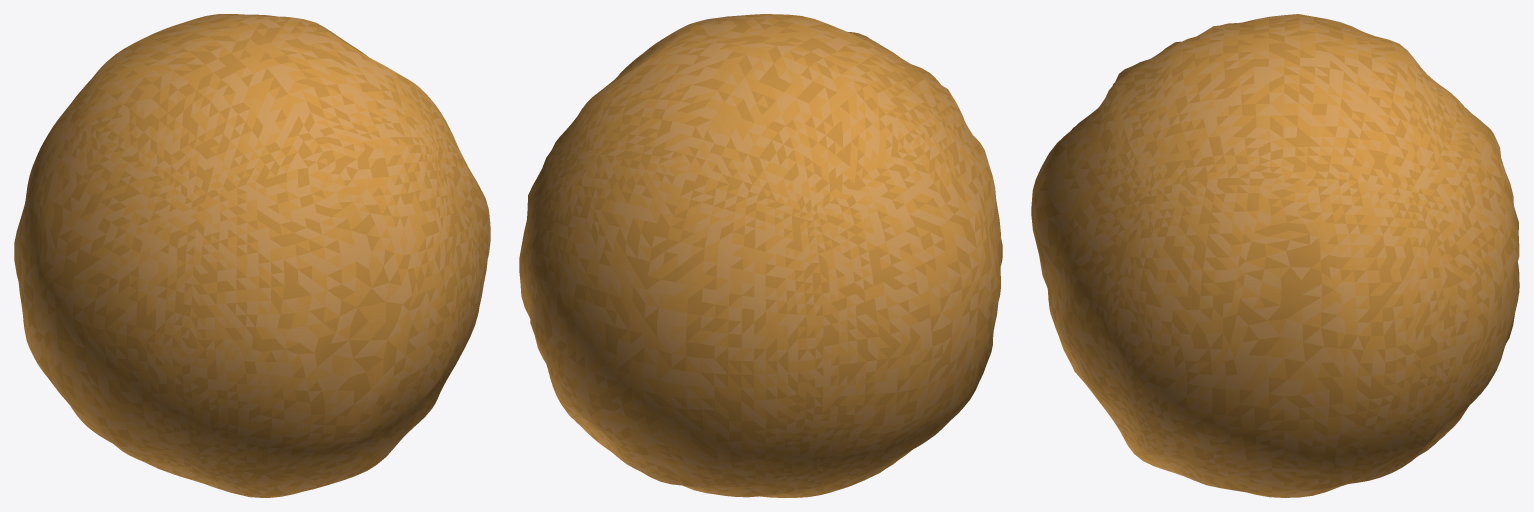
Rendered from DesertPlanetMesh.fbx.
The picture shows the model from 3 angles, left to right: view 1: azimuth 30°, elevation 25°; view 2: azimuth 150°, elevation 25°; view 3: azimuth 270°, elevation 25°; orthographic projection. The views are drawn at different scales.
Visible parts, largest first — view 1: DesertPlanet; view 2: DesertPlanet; view 3: DesertPlanet.
Boxes of the visible parts, x1=… form: DesertPlanet: x1=14, y1=14, x2=490, y2=497; DesertPlanet: x1=519, y1=14, x2=1002, y2=497; DesertPlanet: x1=1031, y1=14, x2=1519, y2=497.
Bounding box in the file's own units: 124 × 127 × 131.
